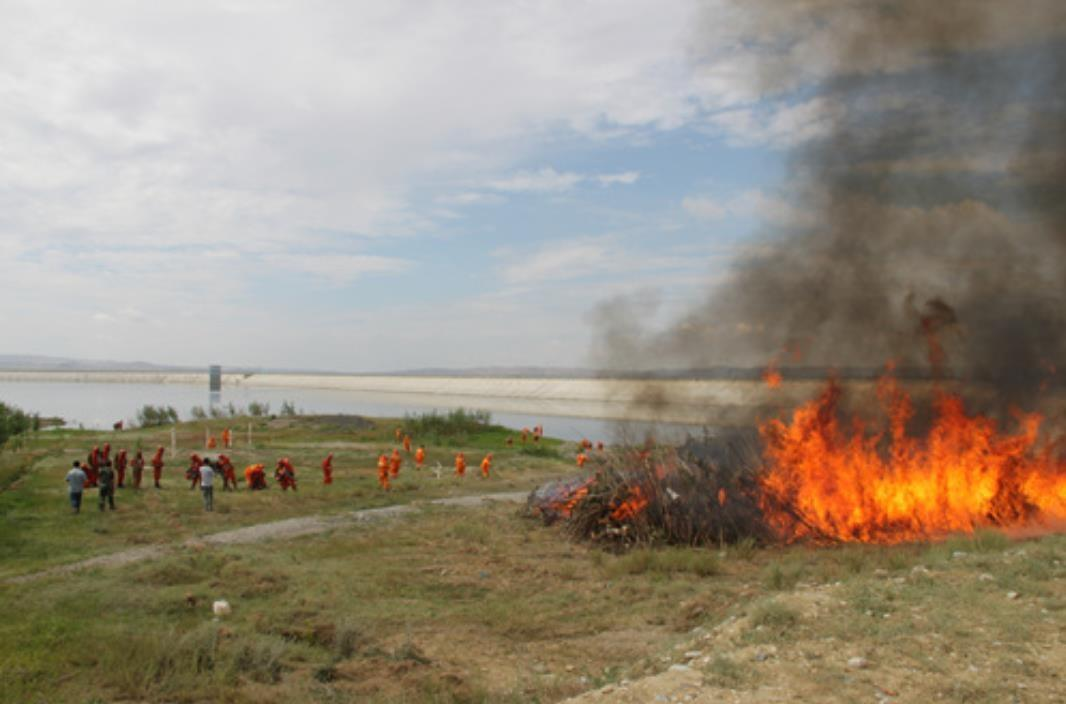fire: (738, 315, 1049, 548), (571, 458, 689, 546)
